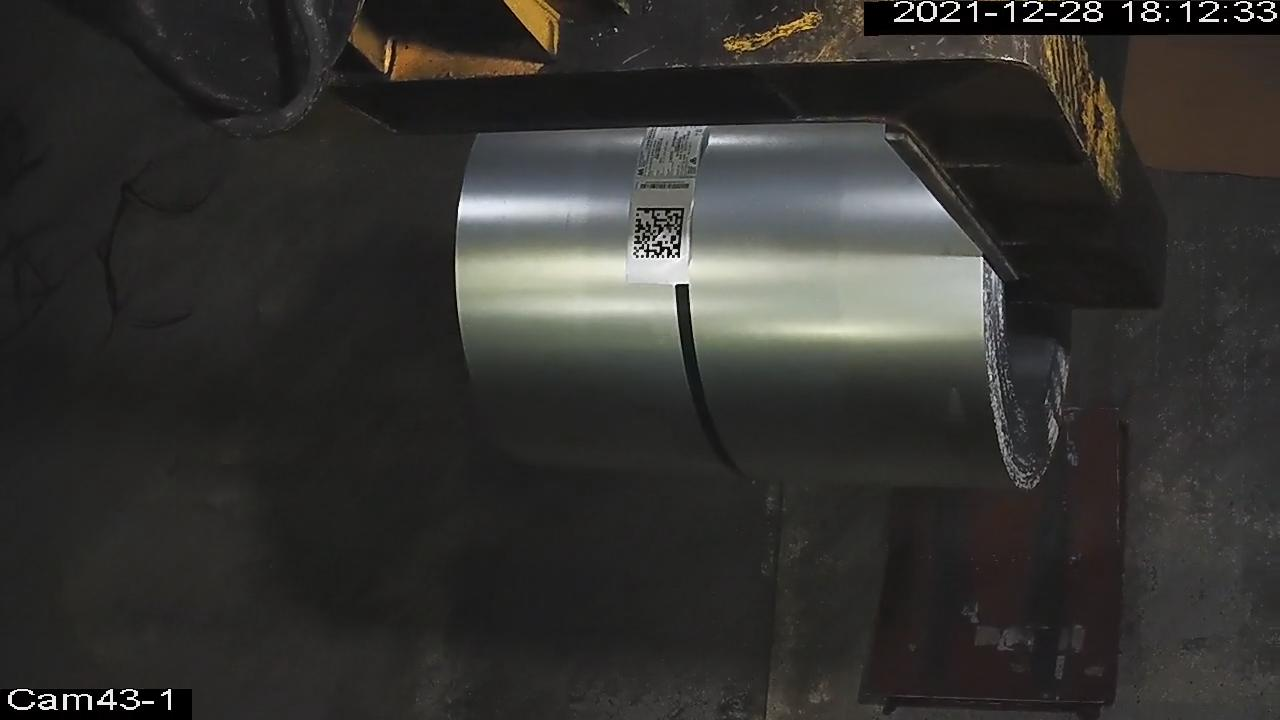data matrix: (631, 207, 688, 264)
